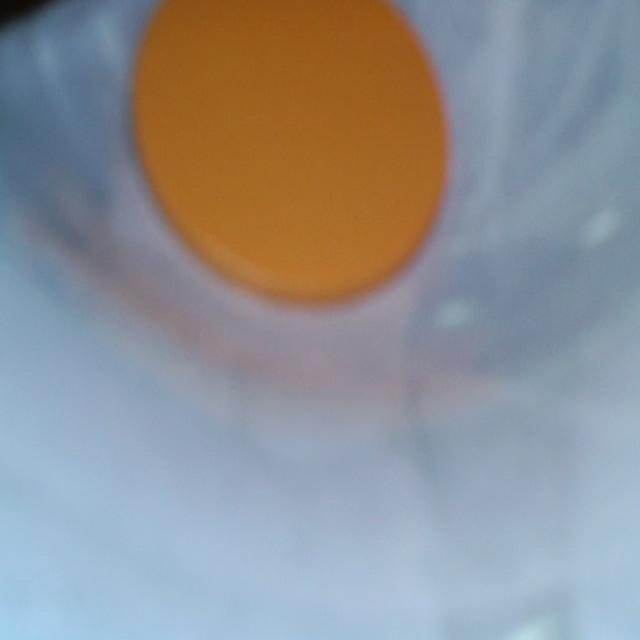circle: (136, 0, 446, 303)
